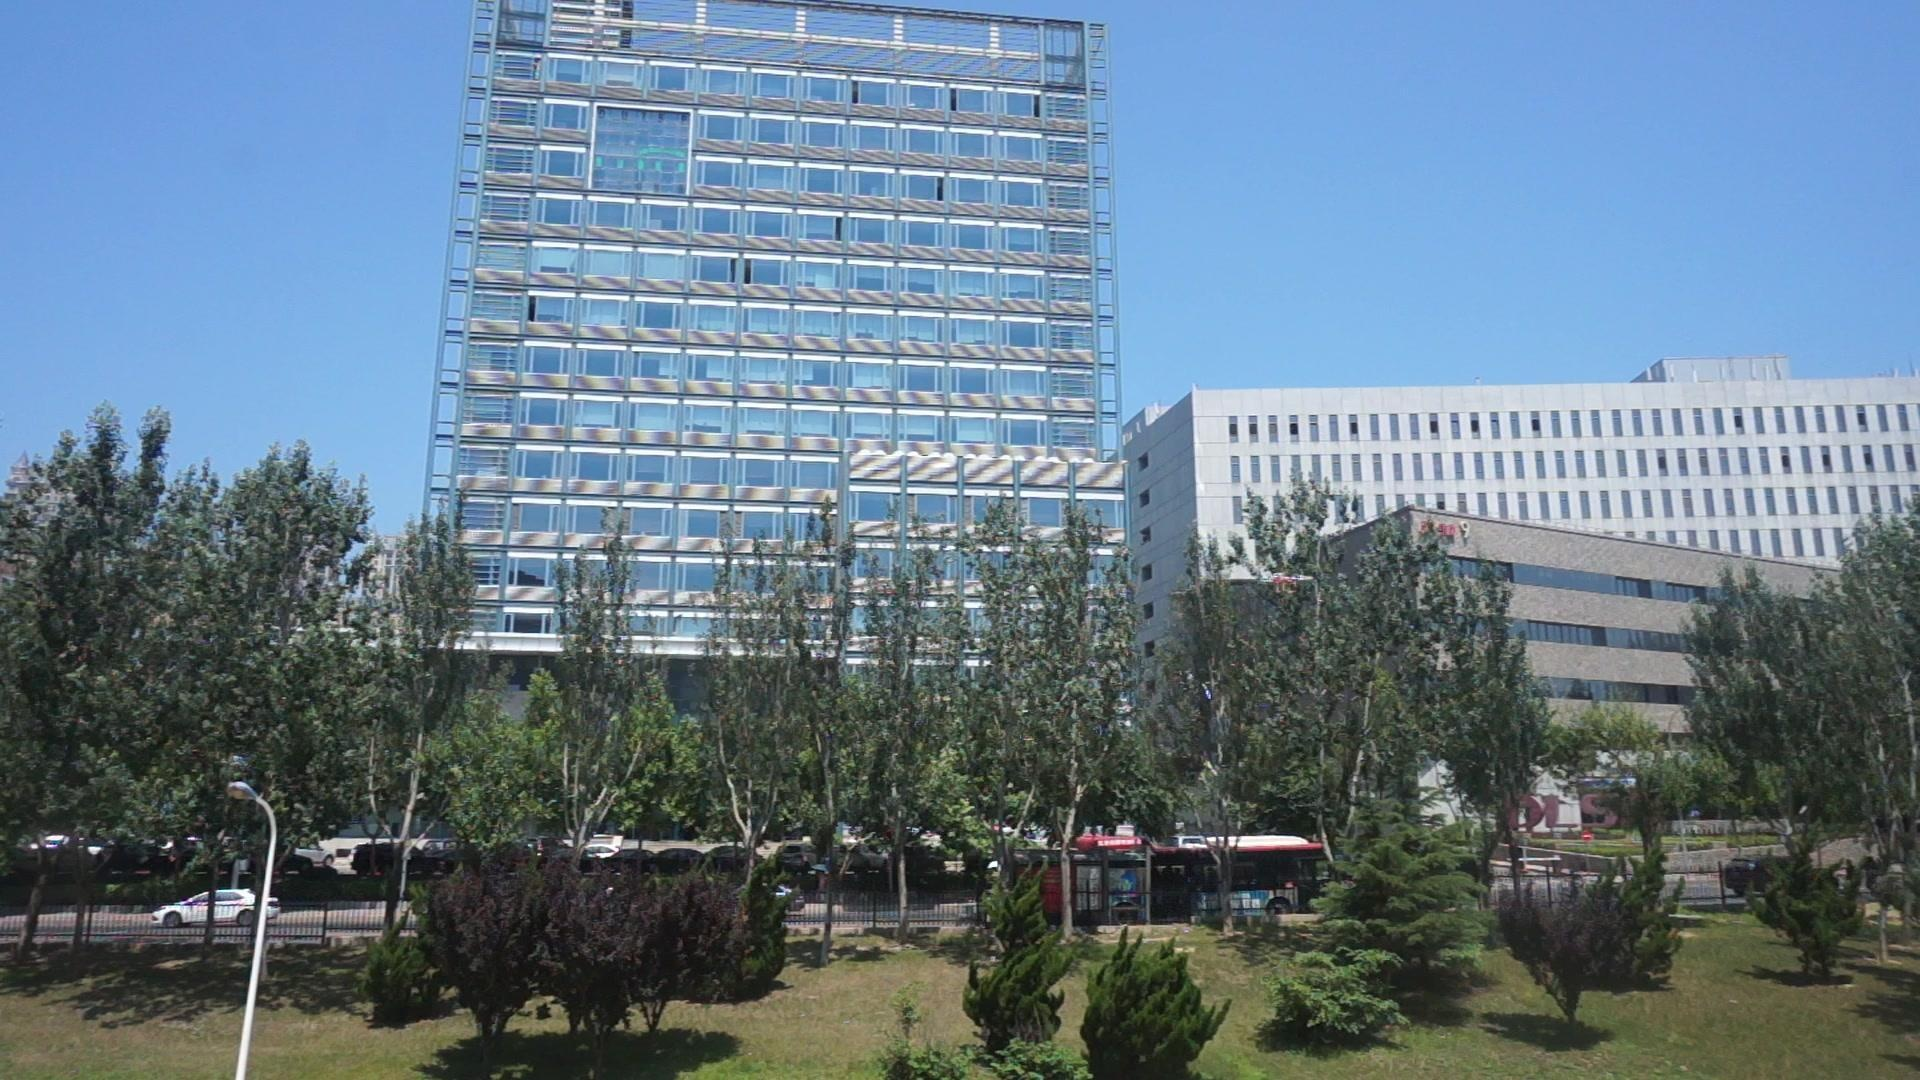UAV: (1261, 574, 1315, 595)
